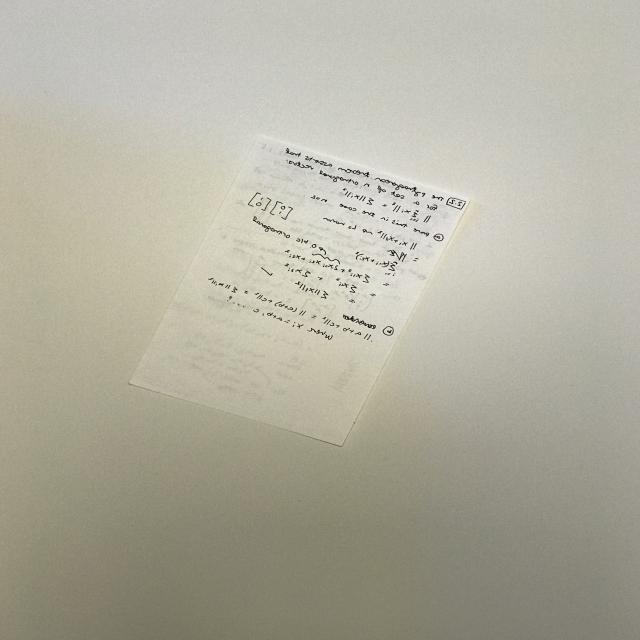paper: (117, 118, 490, 454)
